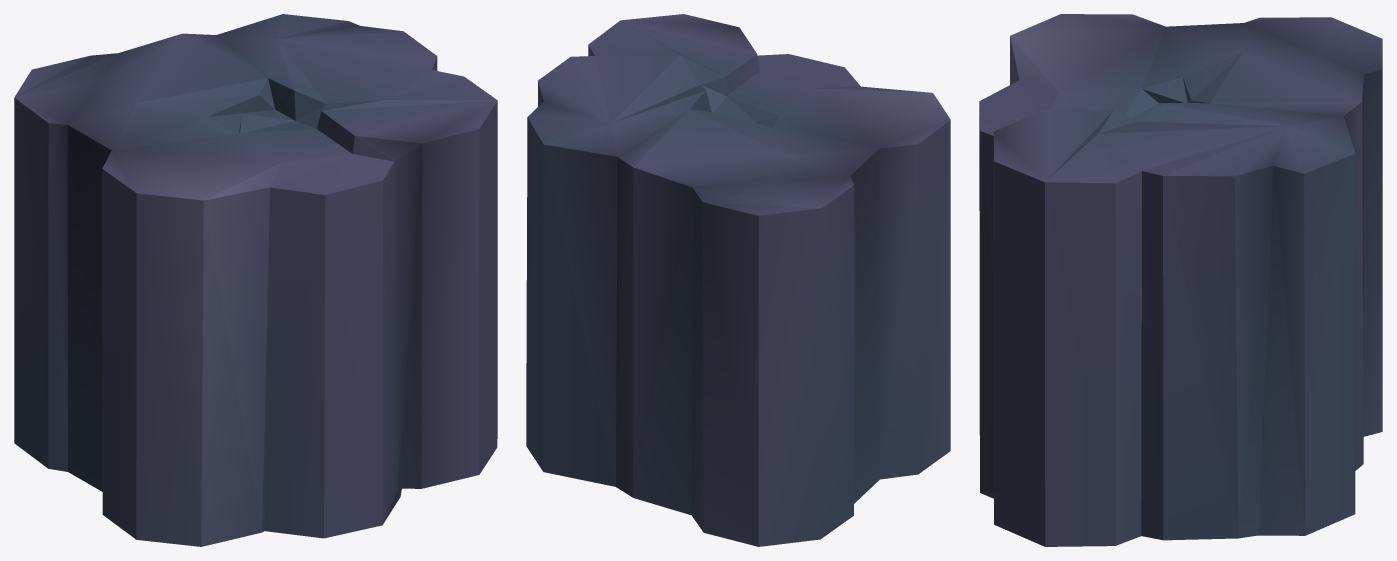
The model's file is carbon-chondrite.glb.
The picture shows the model from 3 angles, left to right: view 1: azimuth 30°, elevation 25°; view 2: azimuth 150°, elevation 25°; view 3: azimuth 270°, elevation 25°; orthographic projection. The views are drawn at different scales.
Parts seen in each view (by area): view 1: carbon-chondrite; view 2: carbon-chondrite; view 3: carbon-chondrite.
Part boxes in pixels (<box>): carbon-chondrite: <box>14,14,497,546</box>; carbon-chondrite: <box>526,14,950,546</box>; carbon-chondrite: <box>979,14,1382,546</box>.
Size of the model in its own units: 1.36 by 1.39 by 1.28.
